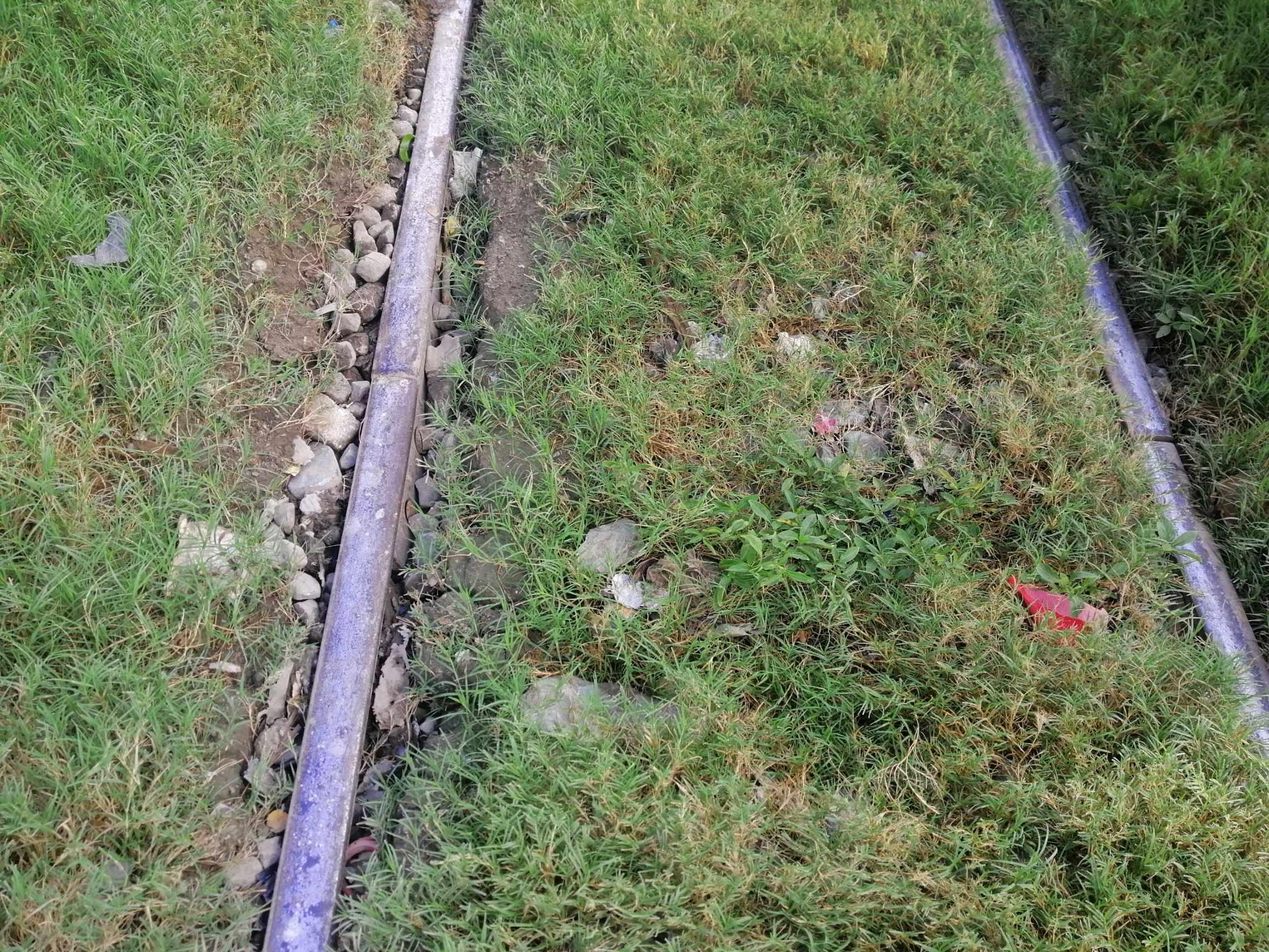railway-gap: (1106, 399, 1197, 479)
